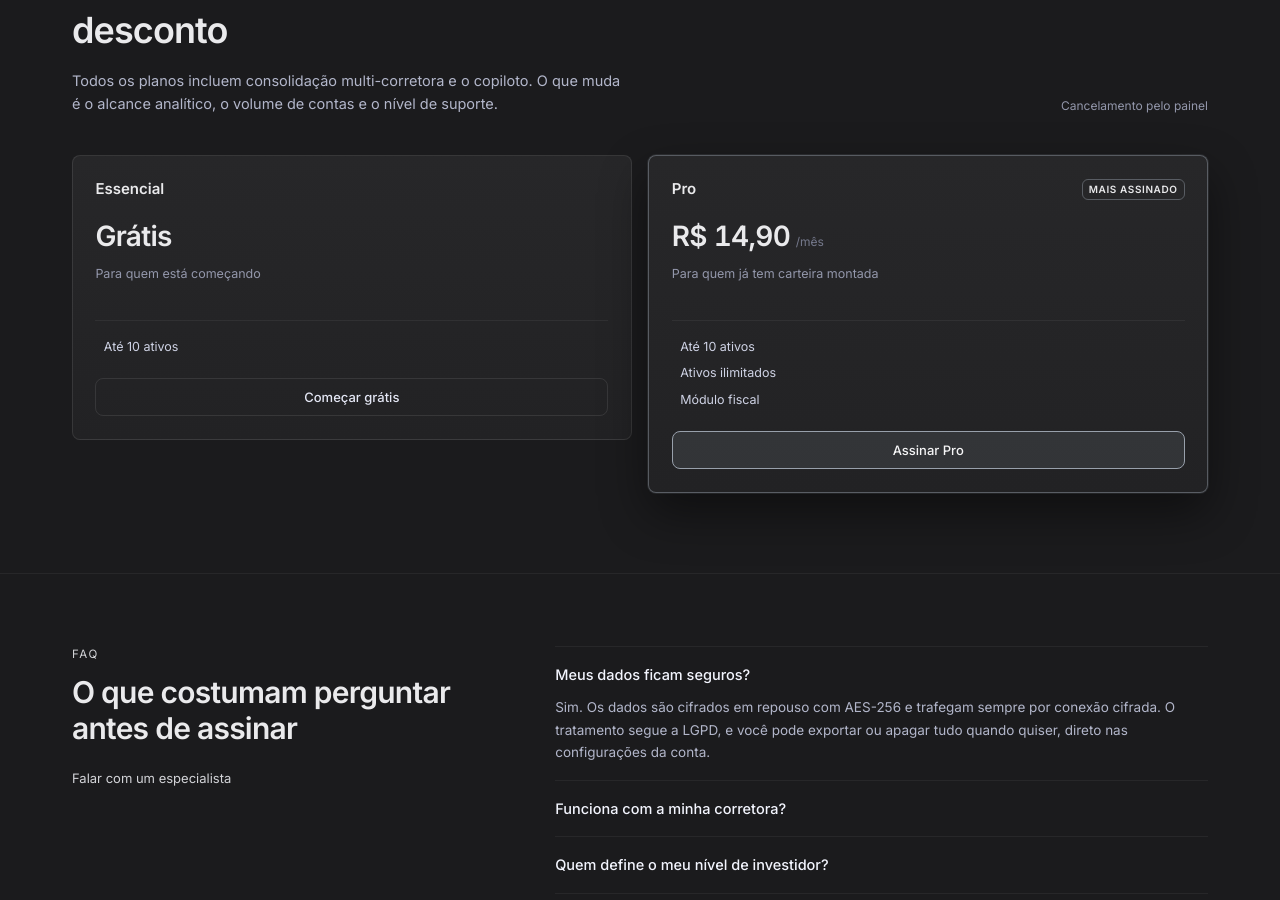
Scenario: Landing (design_handoff_trackerr/Trackerr Landing.dc.html) › renders real Stripe plans sorted by price, with the featured badge and the right CTA per plan
The image size is (1280, 900).
(page scrolled)
Expected: the number of elements with test id "landing-plan" is 2, [72,155,632,440]; [648,155,1208,493]
Expected: the text "Essencial" is shown, [95,178,164,201]
Click the button "Assinar Pro": [928, 450] box [672,431,1185,469]
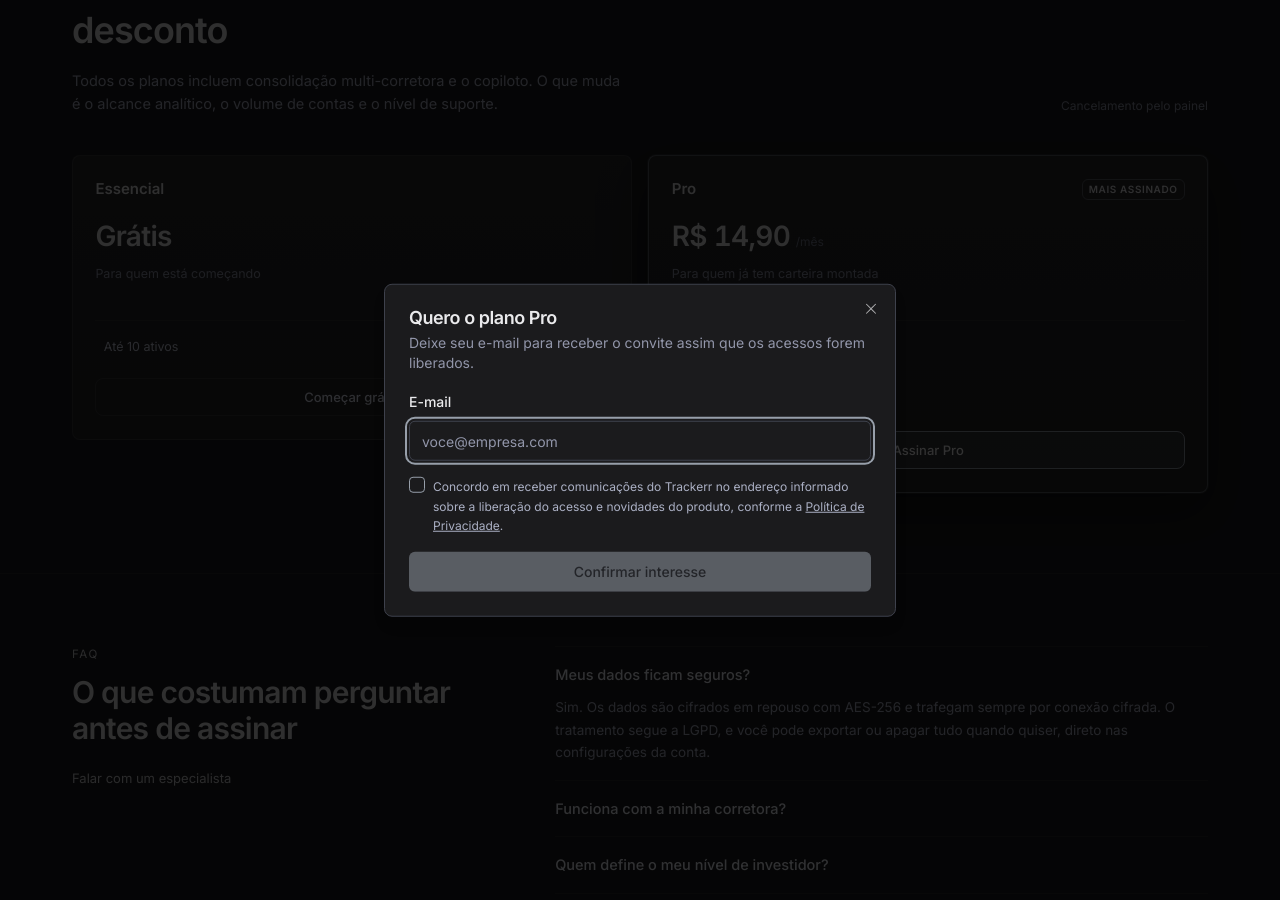
Expected: the heading "Quero o plano Pro" is shown, [409,307,557,328]
